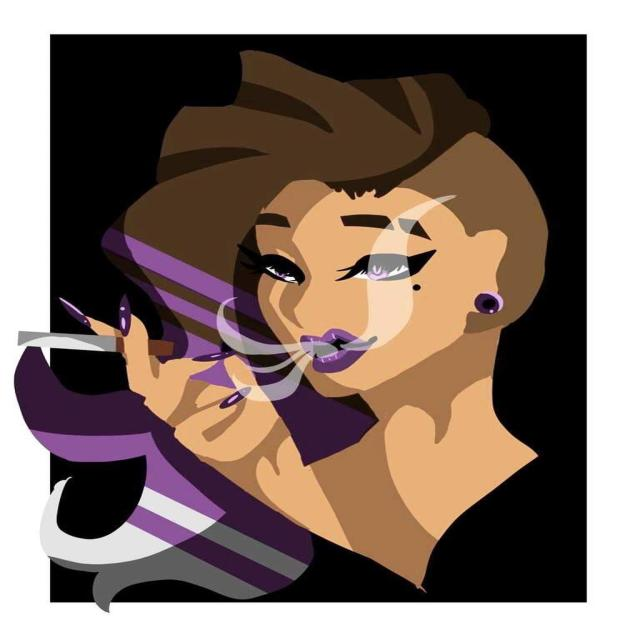smoking: (0, 194, 498, 407)
